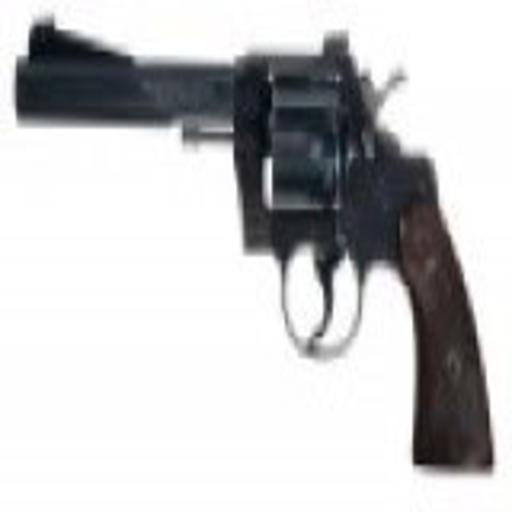Handgun: (11, 16, 495, 476)
